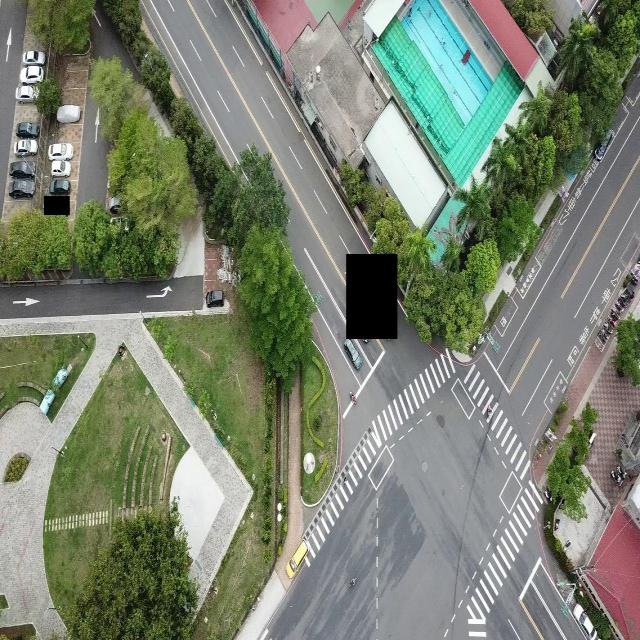car: (572, 598, 598, 639), (6, 180, 38, 200), (13, 86, 42, 108), (343, 339, 362, 371), (14, 134, 39, 158), (56, 104, 83, 124), (47, 143, 77, 159), (18, 65, 46, 82), (204, 288, 225, 310), (19, 48, 46, 64), (9, 160, 38, 174), (49, 178, 72, 195), (48, 161, 73, 176), (15, 121, 40, 135)
